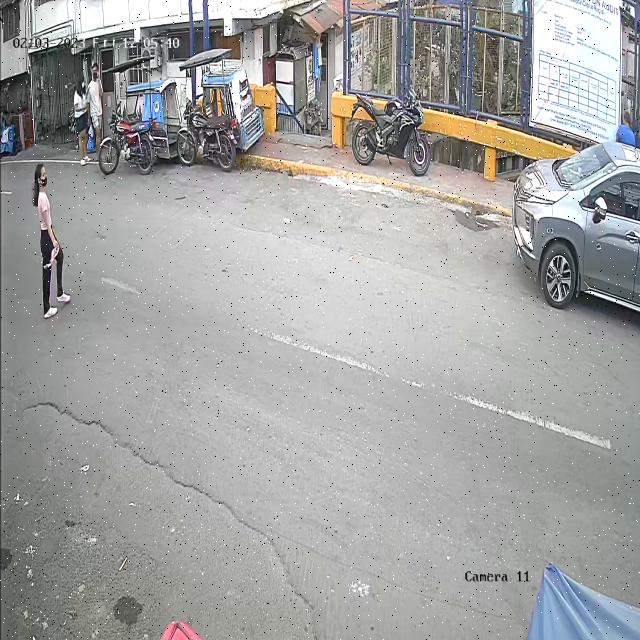human: (33, 162, 71, 319)
trash: (42, 236, 60, 273)
